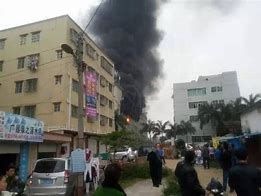smoke: (91, 1, 164, 120)
